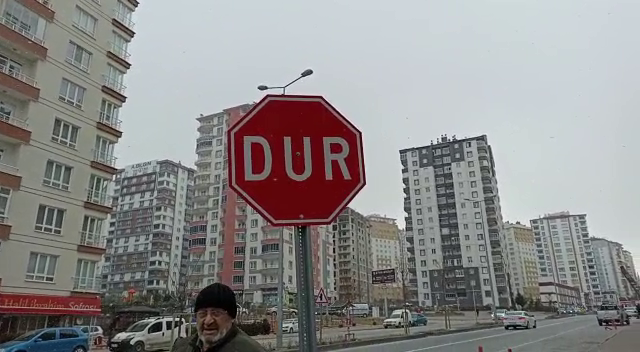stop: (224, 92, 368, 229)
